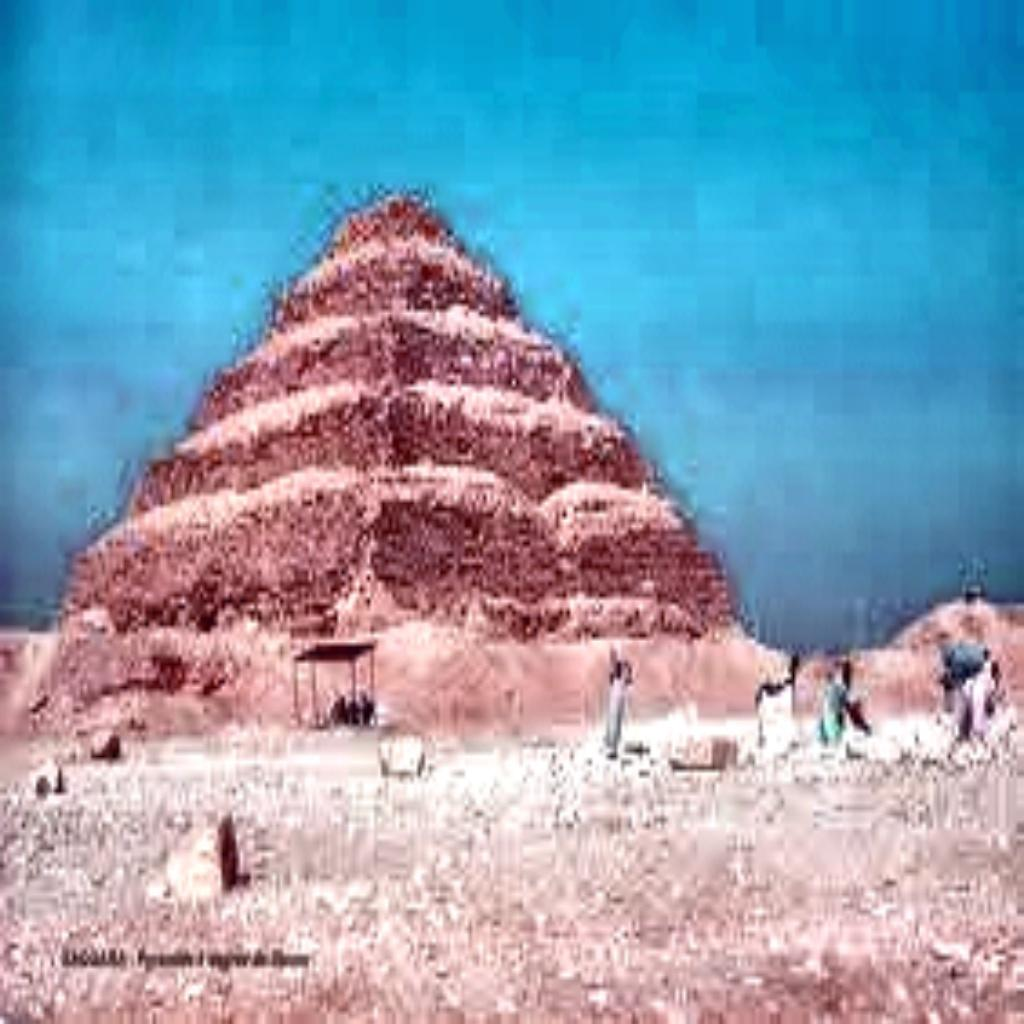Pyramid of Djoser: (47, 178, 748, 678)
